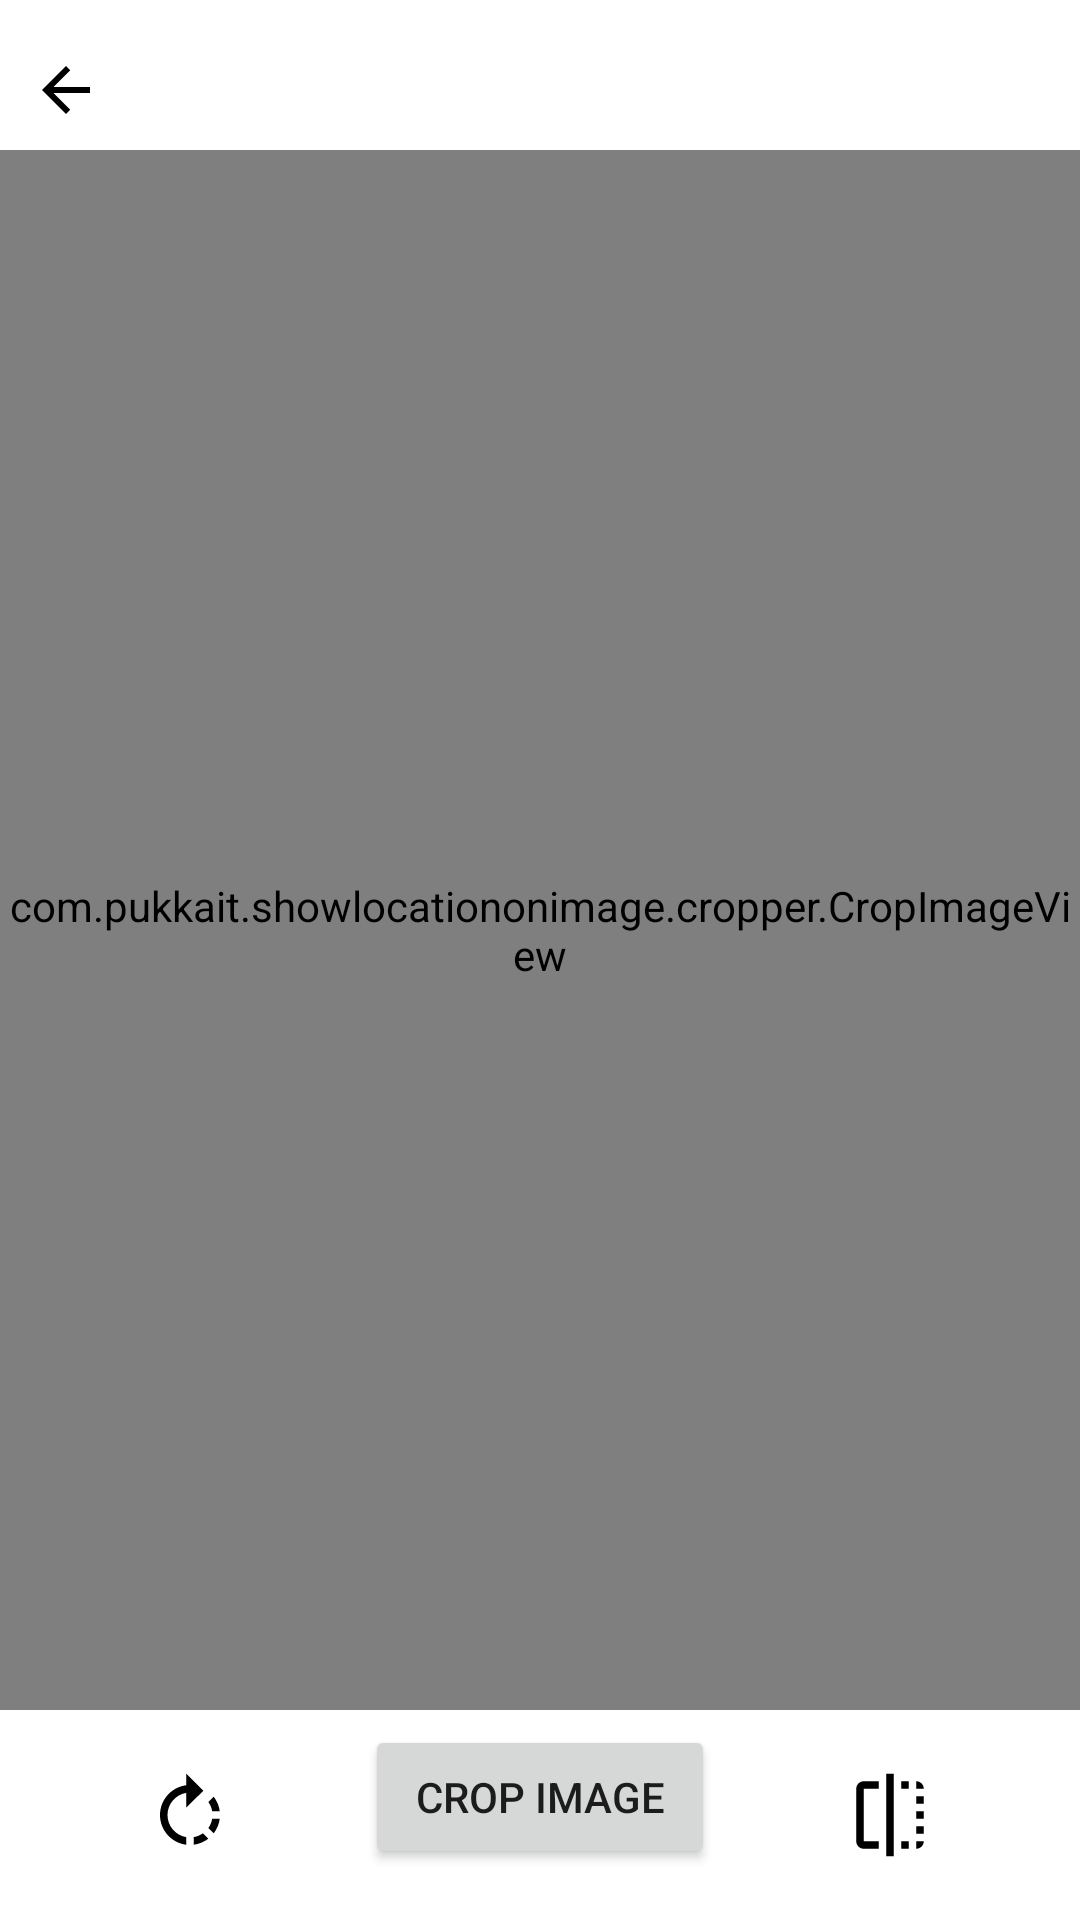

Screen size 1080 x 1920. Icon name, then its box in pixels as (x1, y1, x2, y2):
arrow back: (42, 66, 90, 114)
flip: (856, 1773, 924, 1857)
rotate right: (160, 1774, 220, 1845)
